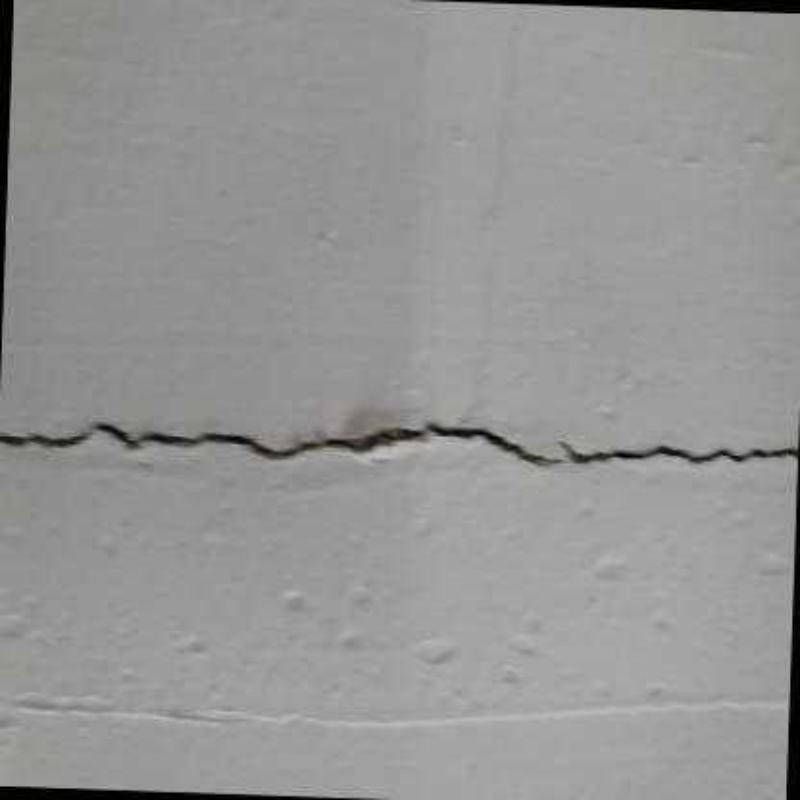crack: (0, 420, 558, 468), (557, 440, 799, 469)
